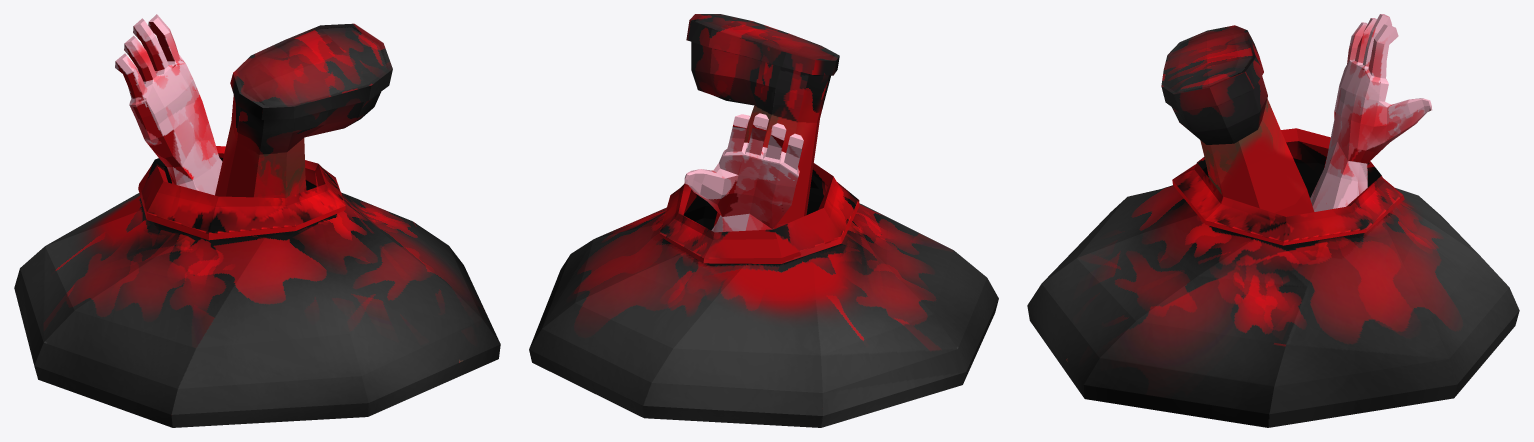
Rendered from garbage_bag_dirty.fbx.
The picture shows the model from 3 angles, left to right: view 1: azimuth 30°, elevation 25°; view 2: azimuth 150°, elevation 25°; view 3: azimuth 270°, elevation 25°; orthographic projection. The views are drawn at different scales.
Visible parts, largest first — view 1: Cube.003; view 2: Cube.003; view 3: Cube.003.
Part boxes in pixels (x1,y1,x2,y2): Cube.003: (14,14,500,427); Cube.003: (529,14,998,427); Cube.003: (1027,14,1519,427).
Bounding box in the file's own units: 71.93 × 49.65 × 71.59.
Materials: 1 (1 with a texture image).
